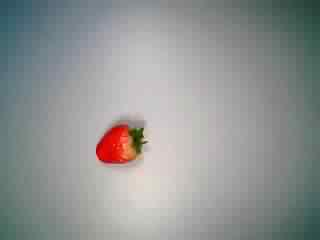strawberry: (82, 114, 148, 176)
